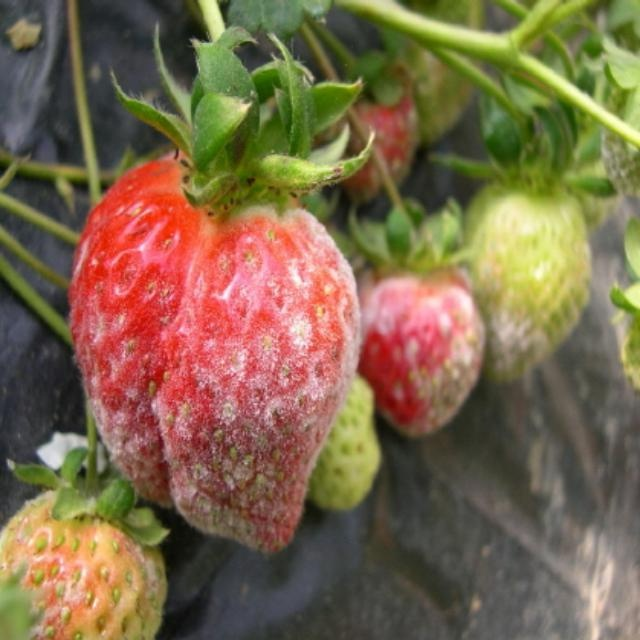Powdery Mildew Fruit: (67, 140, 372, 557), (458, 177, 590, 382), (2, 480, 168, 638), (357, 266, 488, 438), (301, 48, 421, 203), (599, 59, 640, 197)
